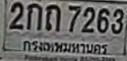2: (9, 2, 23, 28), (81, 6, 94, 32)
3: (111, 8, 123, 33)
6: (96, 7, 109, 32)
7: (68, 5, 80, 31)
A01: (26, 2, 41, 29)
A22: (45, 3, 60, 30)
BKK: (20, 38, 108, 56)
